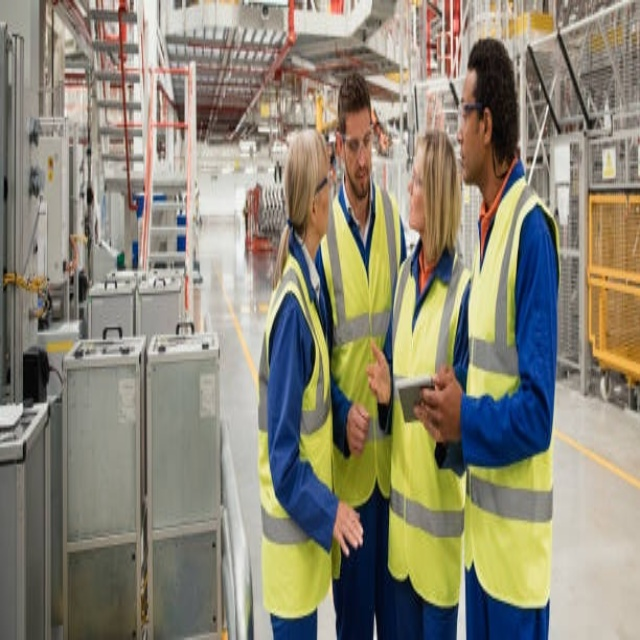Gafas: (340, 129, 374, 155), (410, 156, 427, 198), (462, 102, 485, 121), (314, 174, 329, 198)
Sin_guantes: (416, 365, 460, 442), (333, 501, 365, 558), (365, 338, 391, 406), (346, 397, 371, 456)
Sin_mascara: (459, 134, 476, 181), (407, 193, 420, 235), (318, 200, 333, 235), (355, 164, 370, 188)
